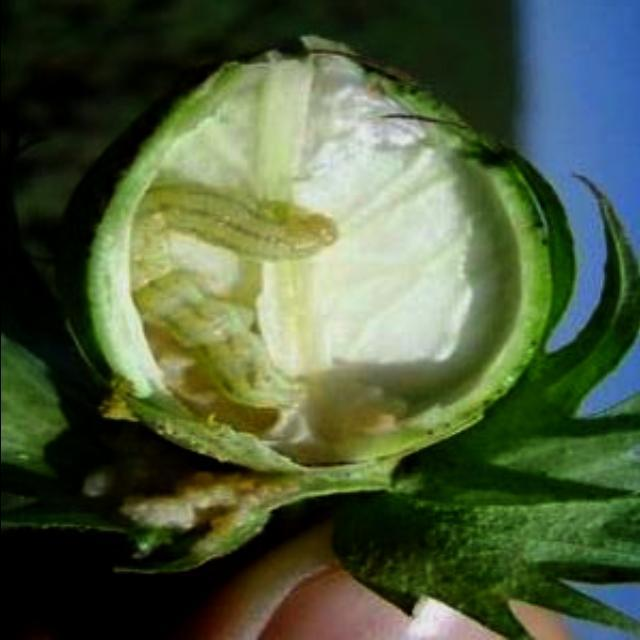Cotton bollworm: (101, 168, 356, 444)
